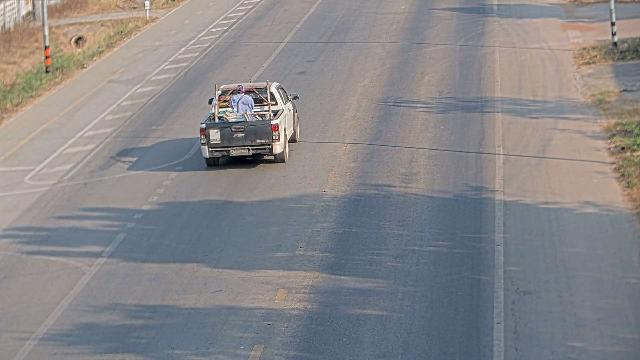pickup-truck: (198, 80, 300, 166)
